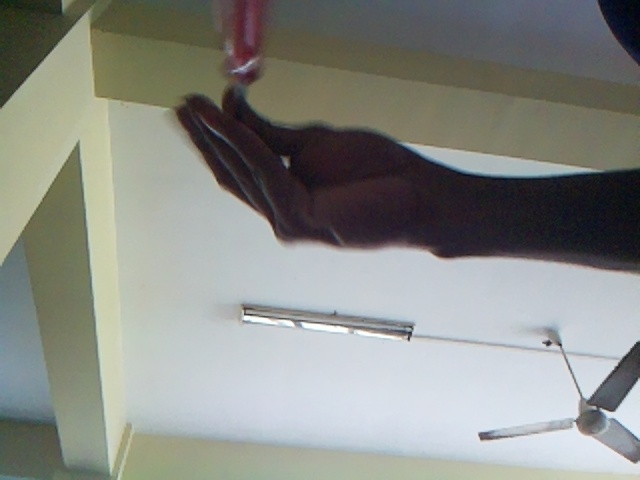redskrew: (218, 2, 275, 75)
